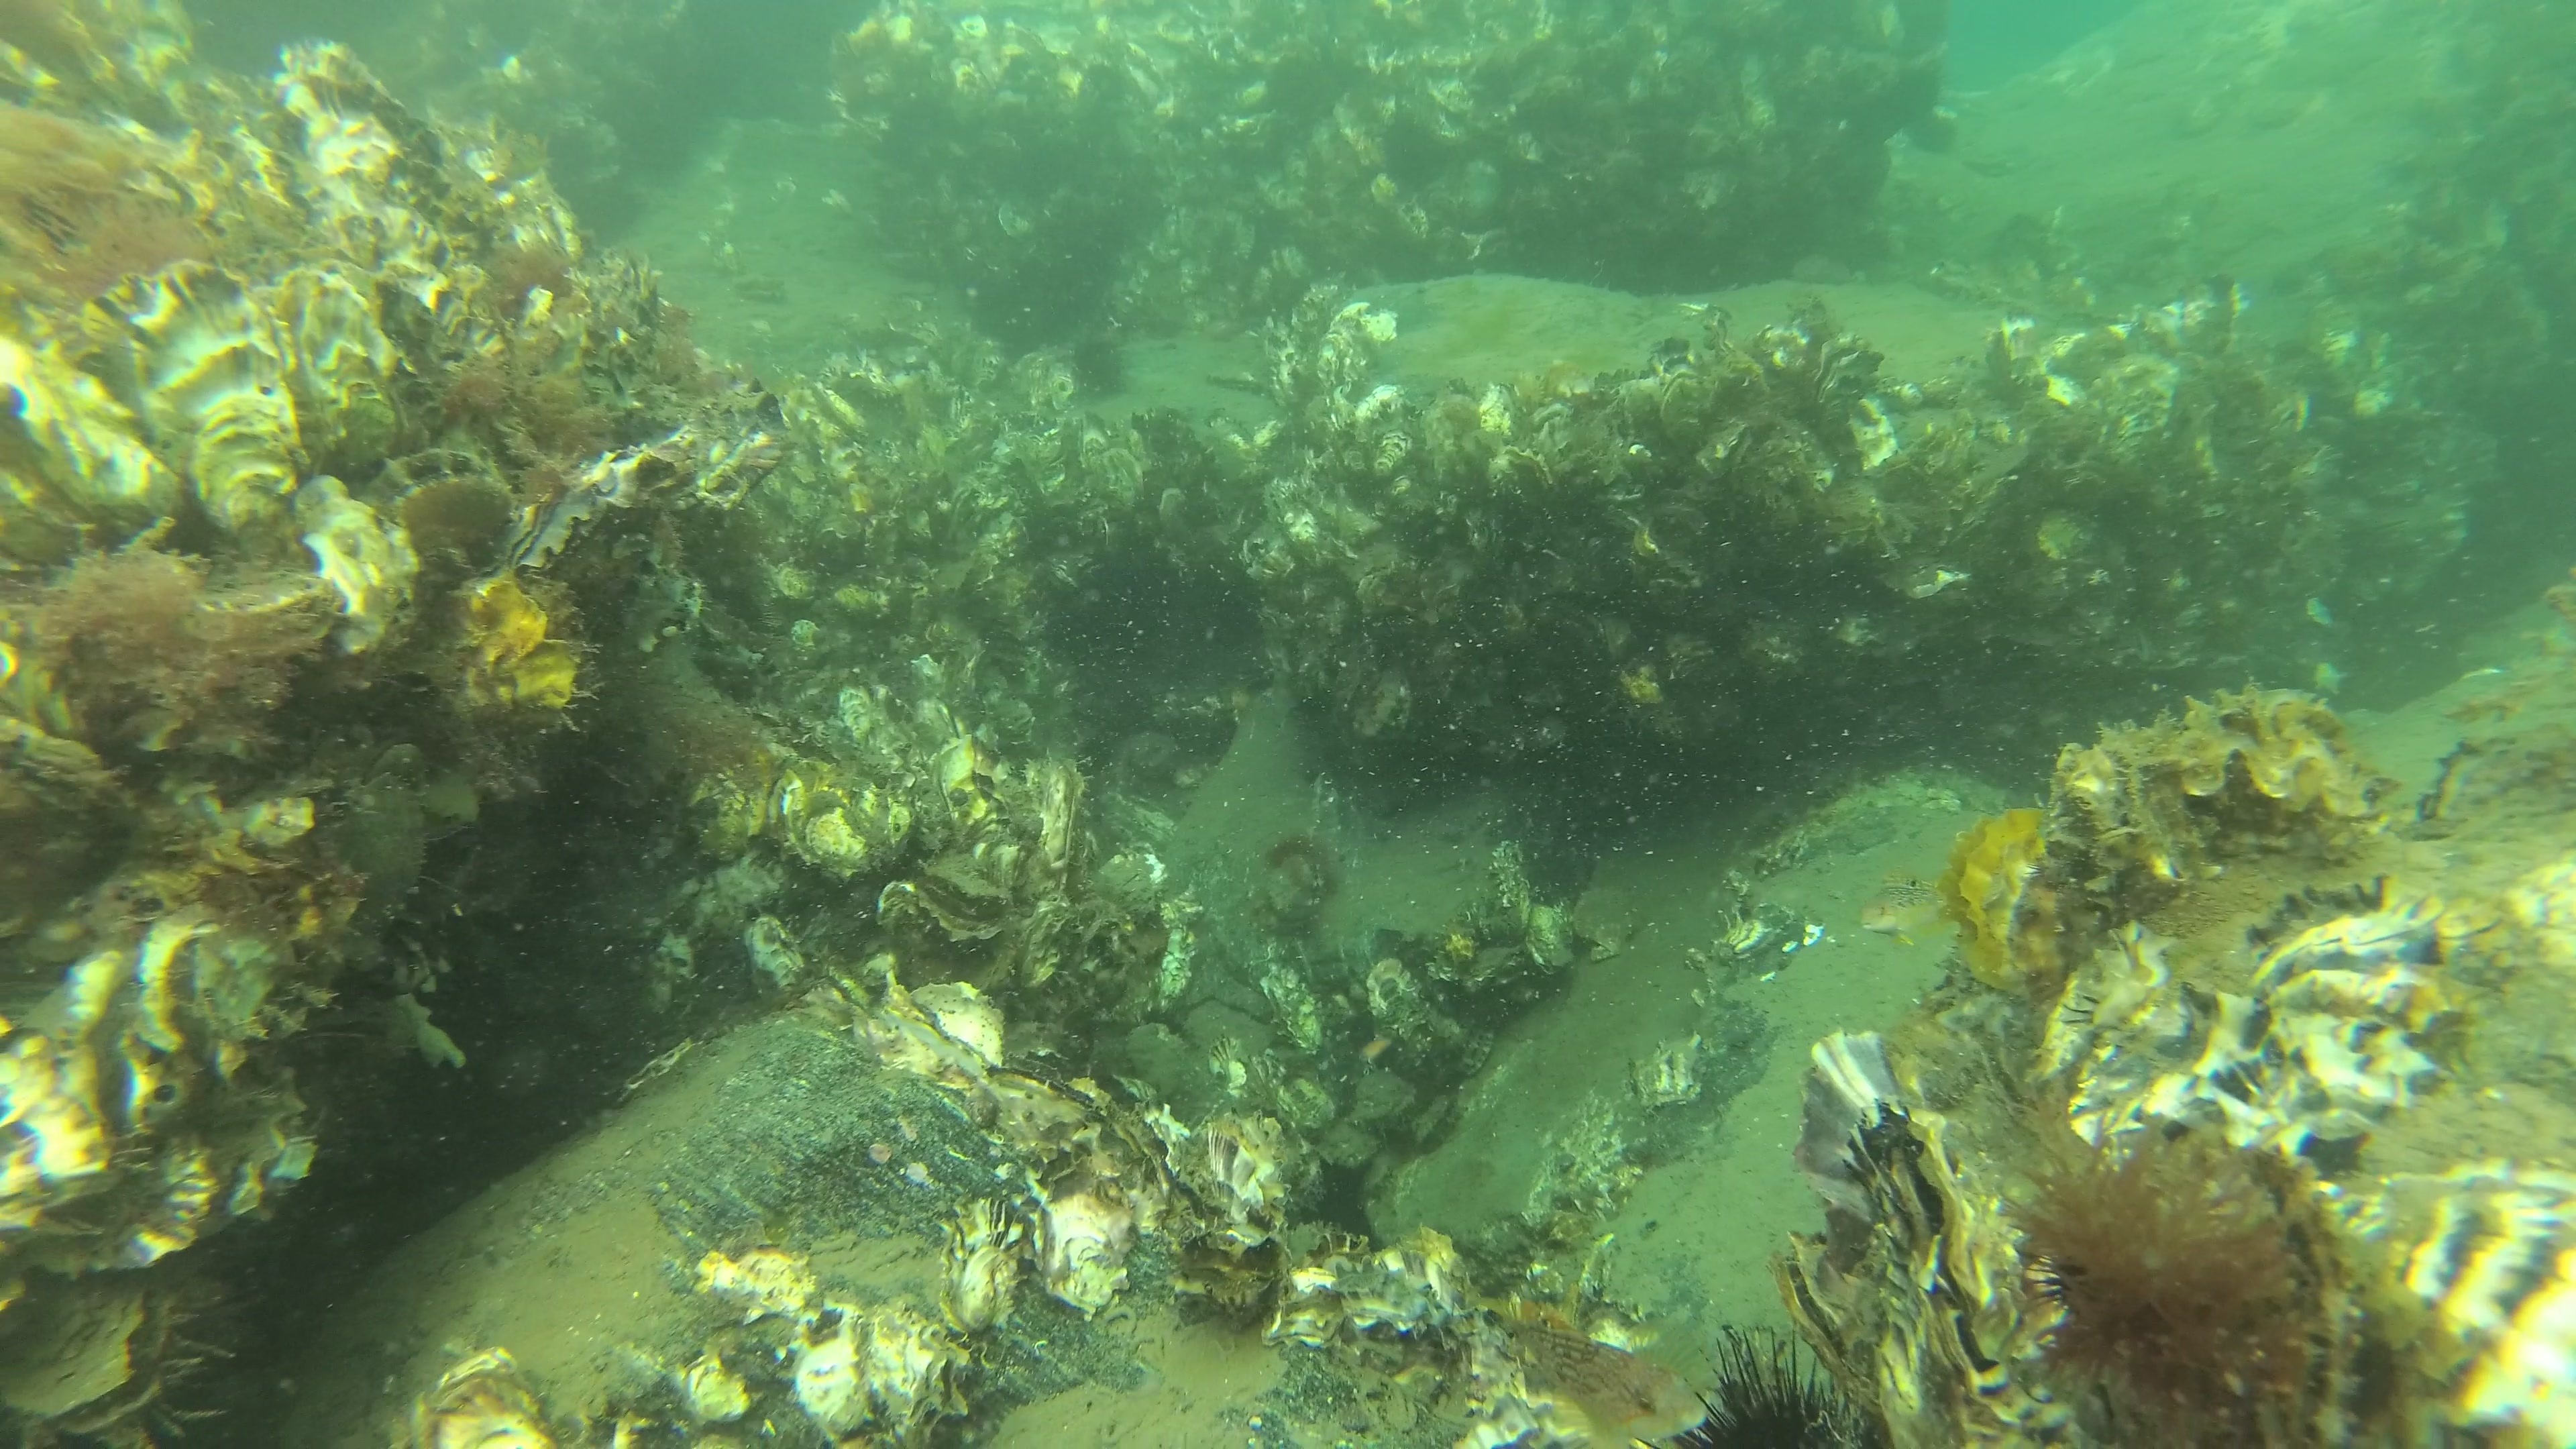echinus: (1681, 1323, 1867, 1449), (1065, 333, 1132, 402), (1902, 104, 1950, 161)
